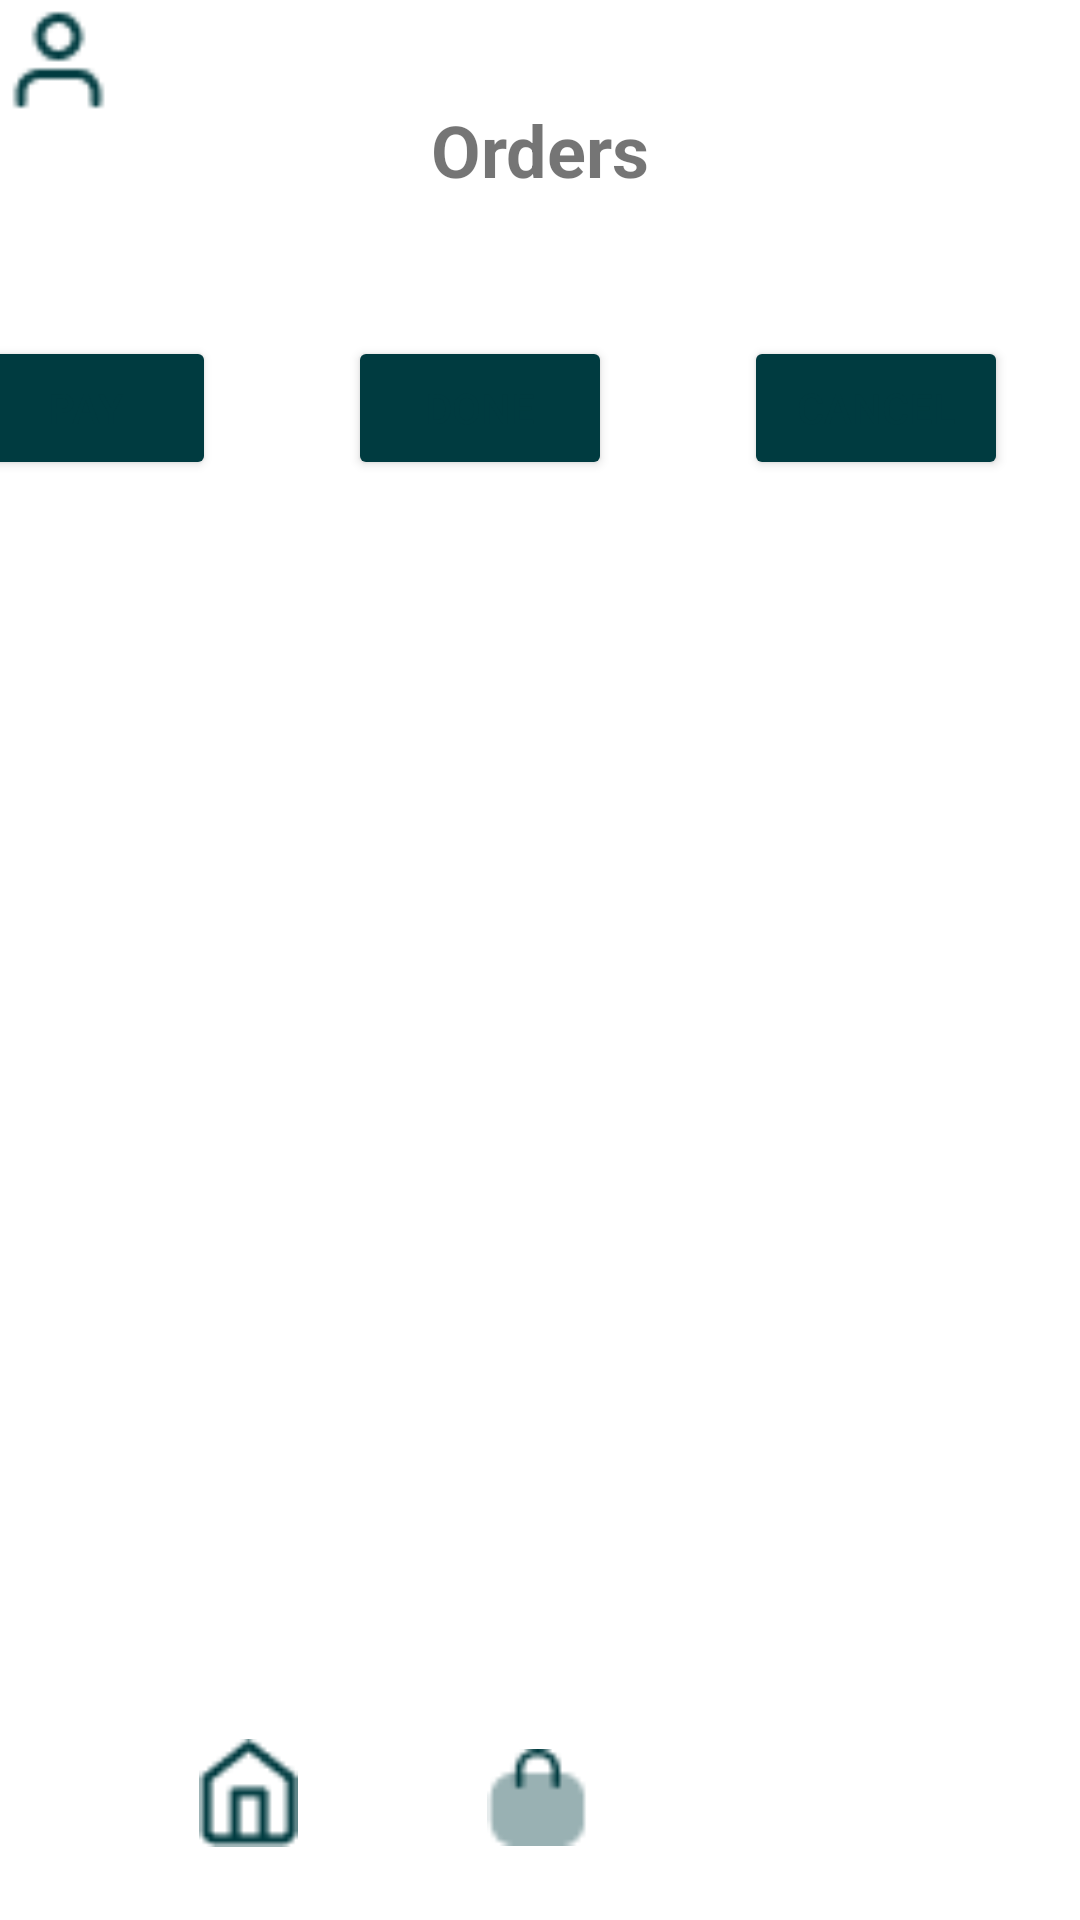

Icon click points for this 1080 × 1920 phone screenshot, format point (x, y):
bag: point (536, 1797)
user: point (58, 60)
